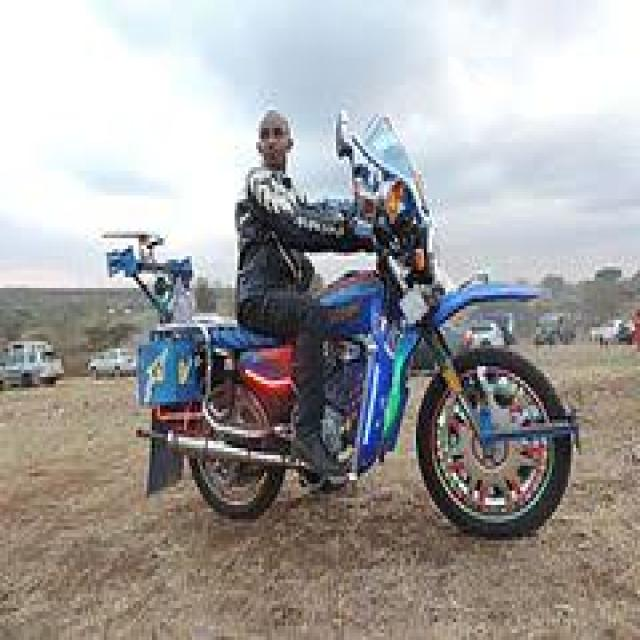bodaboda: (57, 80, 586, 545)
